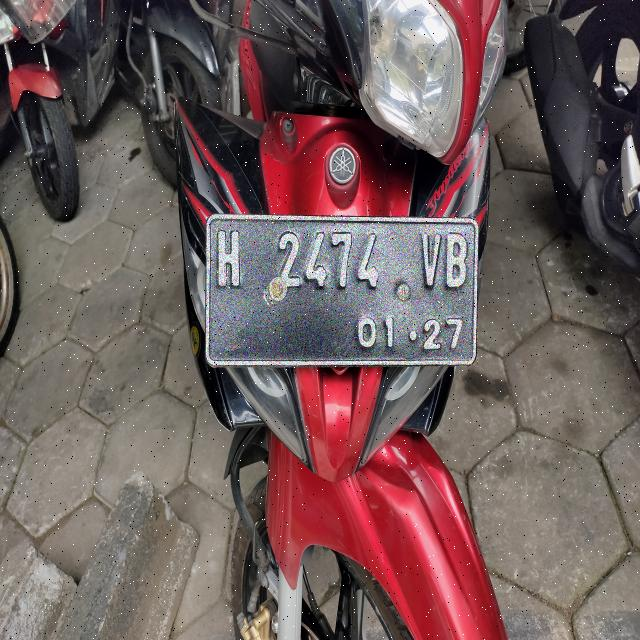plate: (206, 216, 477, 366)
